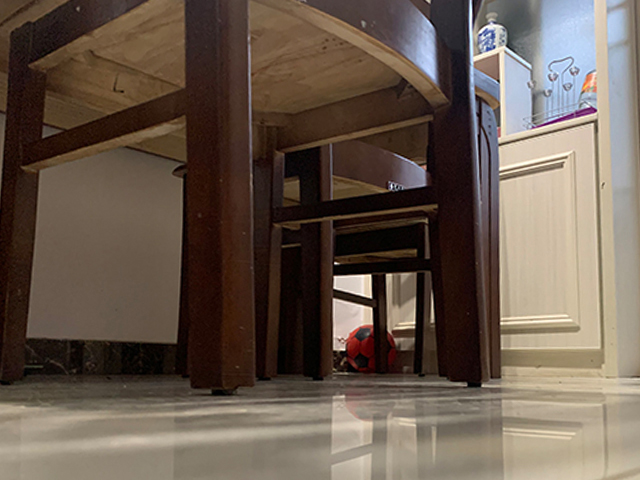cabinet: (498, 114, 612, 378)
stool: (1, 1, 492, 395)
